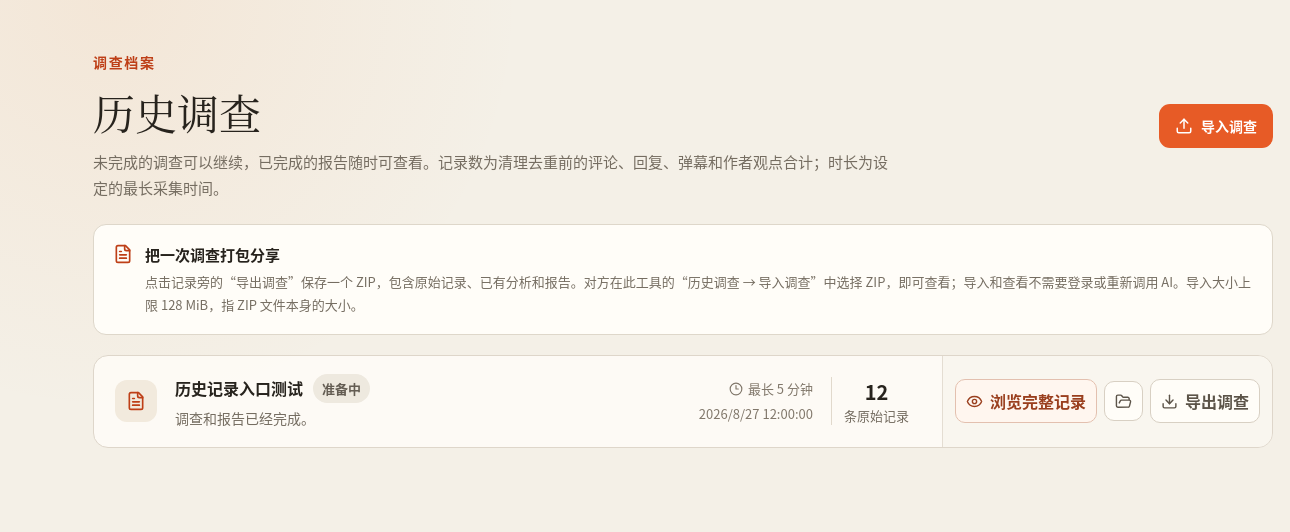
History › exports a settled created record
Click the button "导出调查": (1205, 401) [1150,379,1260,423]
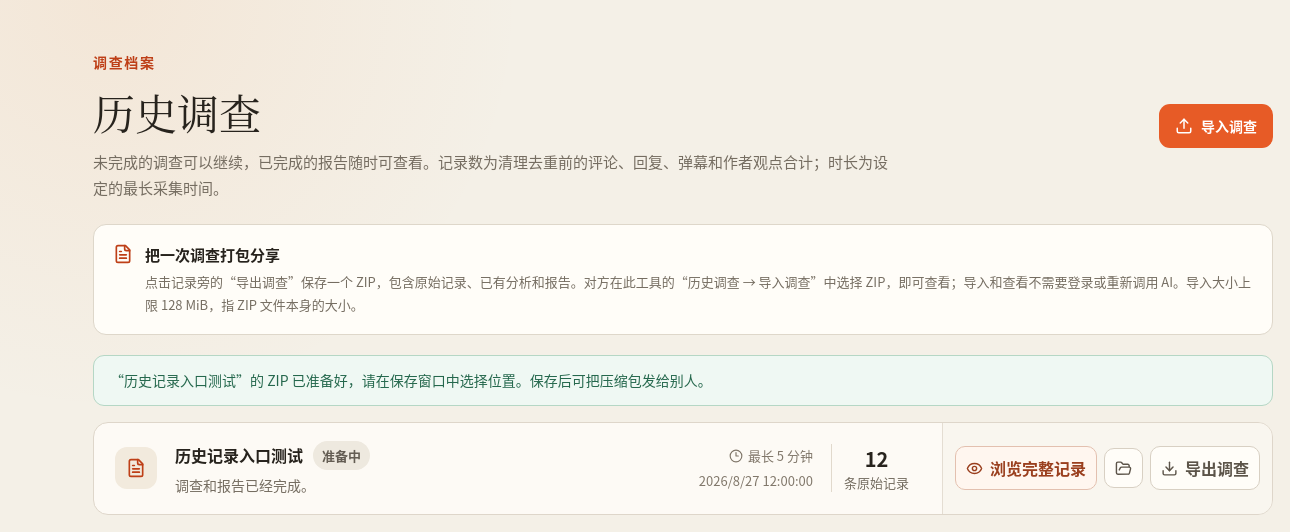
Expected: the text "“历史记录入口测试”的 ZIP 已准备好，请在保存窗口中选择位置。保存后可把压缩包发给别人。" is shown, [110,370,712,390]
